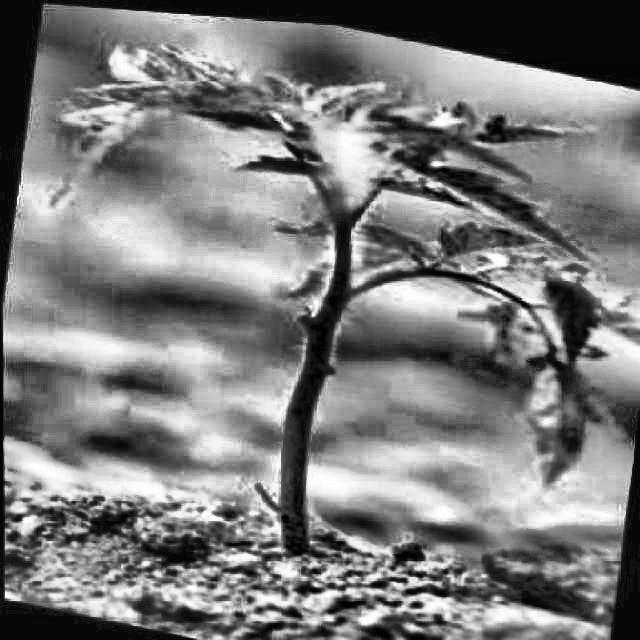plants: (1, 0, 638, 611)
